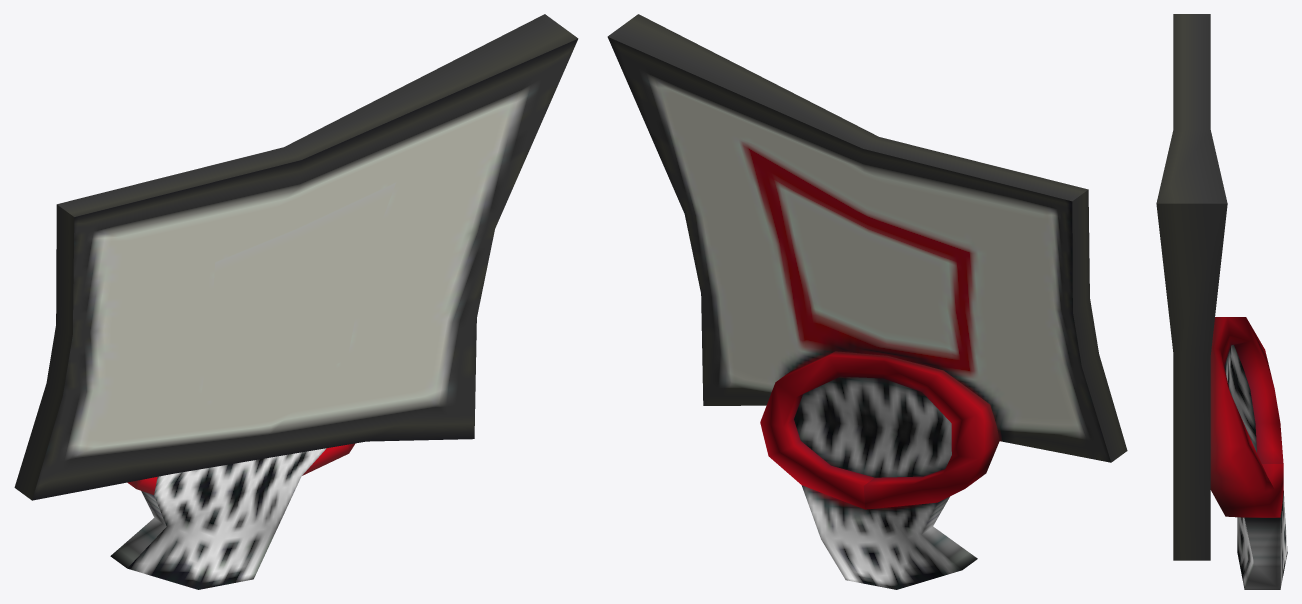
The model's file is icon.ico.obj.
3 views of the same model, side by side, from view 1: azimuth 30°, elevation 25°; view 2: azimuth 150°, elevation 25°; view 3: azimuth 270°, elevation 25° (orthographic). The views are drawn at different scales.
Bounding box in the file's own units: 4.02 × 3.58 × 0.7986.
Materials: 1 (1 with a texture image).
